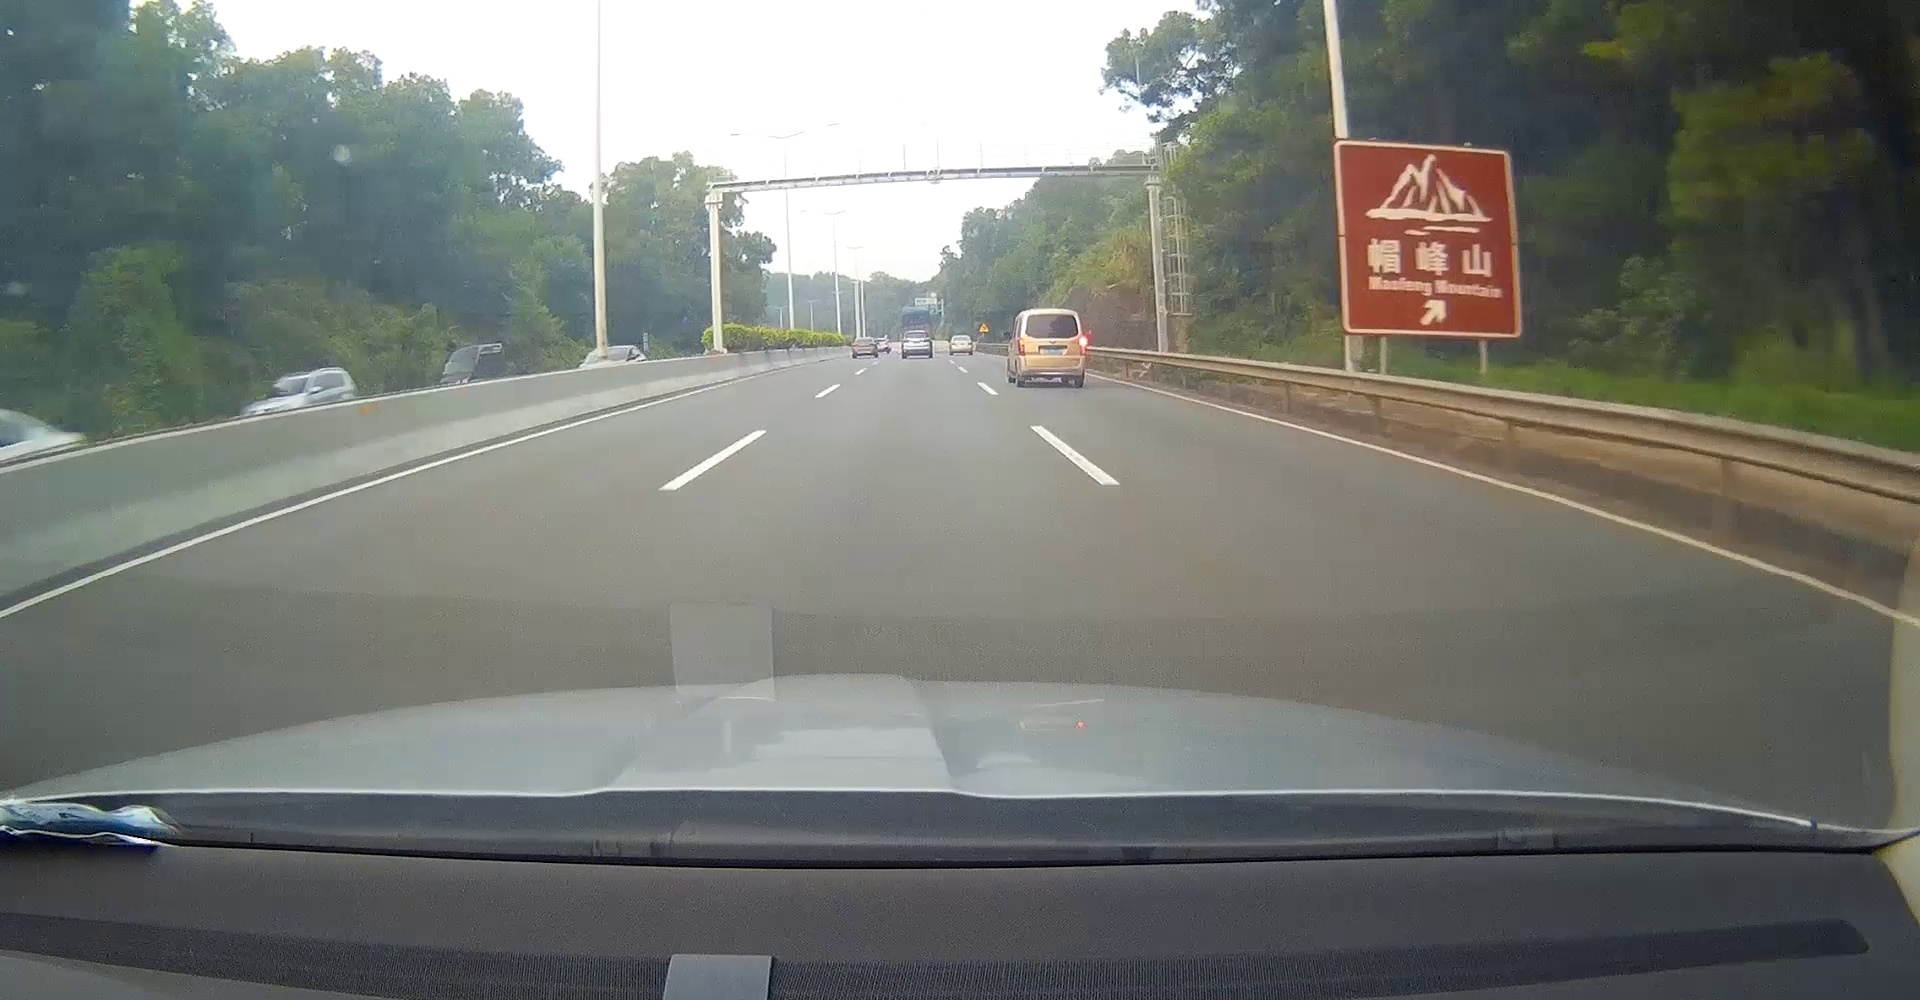L_light: (1018, 338, 1025, 355), (902, 339, 908, 343)
R_light: (1079, 338, 1086, 355), (923, 338, 930, 341)
T_light: (1045, 313, 1057, 317), (913, 332, 918, 334)
day-no: (902, 330, 933, 359)
day-right: (1018, 308, 1087, 388)
